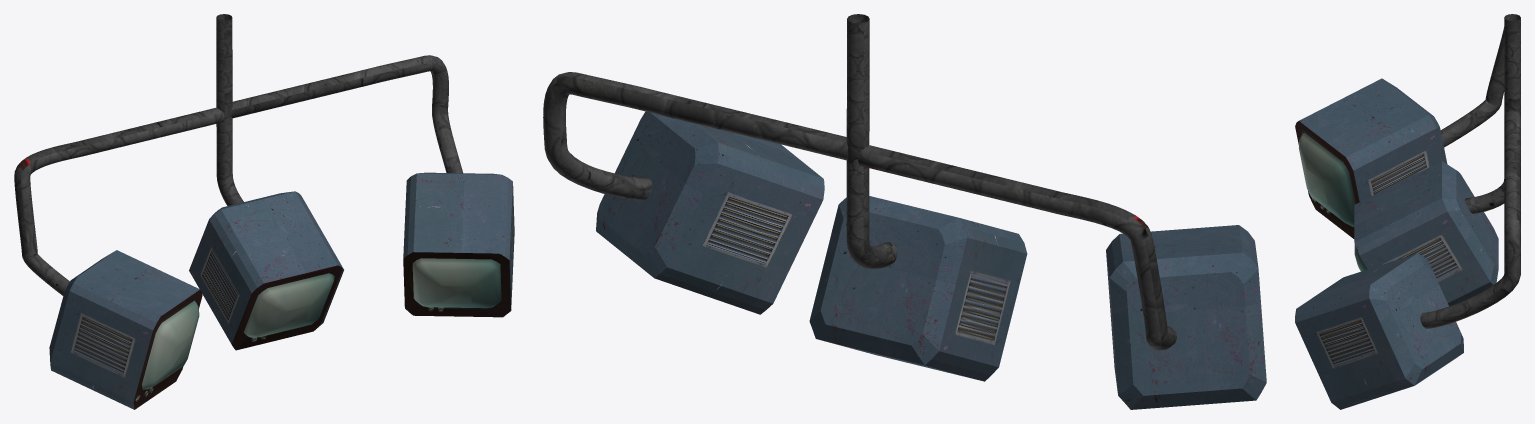
The model's file is TrippleTV.fbx.
3 views of the same model, side by side, from view 1: azimuth 30°, elevation 25°; view 2: azimuth 150°, elevation 25°; view 3: azimuth 270°, elevation 25° (orthographic). The views are drawn at different scales.
Parts seen in each view (by area): view 1: Cube.003; view 2: Cube.003; view 3: Cube.003.
Boxes of the visible parts, x1=… form: Cube.003: x1=14, y1=14, x2=514, y2=409; Cube.003: x1=543, y1=14, x2=1266, y2=409; Cube.003: x1=1295, y1=14, x2=1520, y2=409.
Bounding box in the file's own units: 2.05 × 0.8268 × 1.19.
